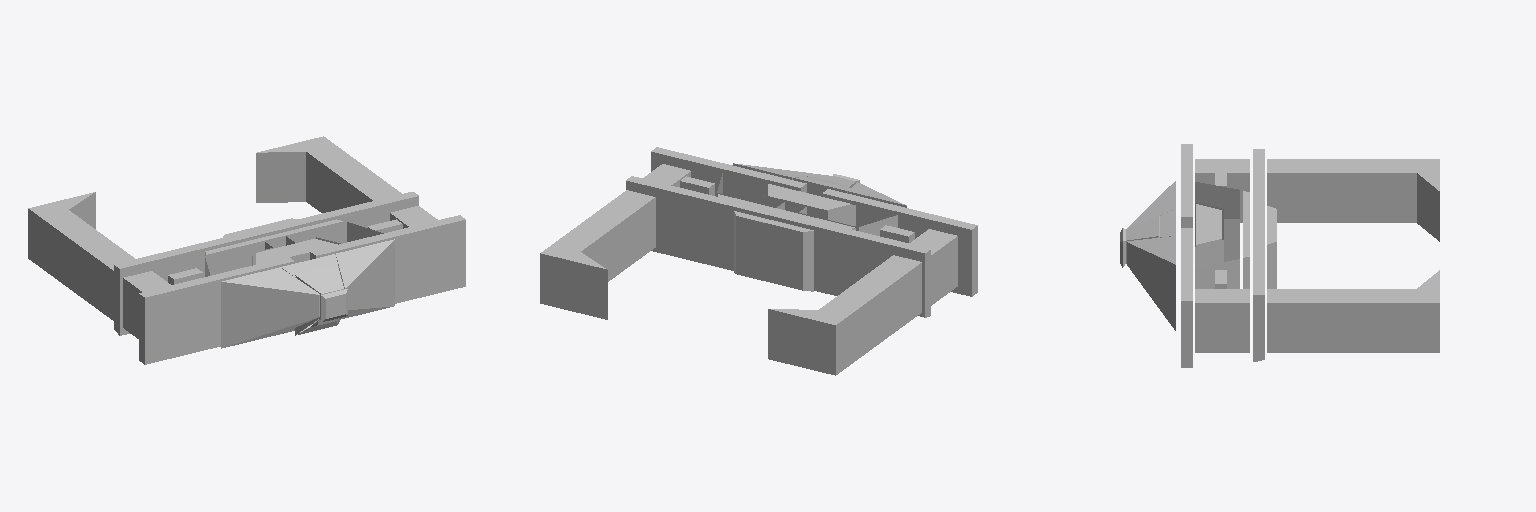
The model's file is recognizer_quad.obj.
3 views of the same model, side by side, from view 1: azimuth 30°, elevation 25°; view 2: azimuth 150°, elevation 25°; view 3: azimuth 270°, elevation 25° (orthographic).
Parts seen in each view (by area): view 1: LegA02, LegB02, Shoulder01, Shoulder02, Head02, Middle_Bar, Head04, Head01, LegA01, Chest03, Chest02, Chest01 (+3 smaller); view 2: Middle_Bar, LegA02, LegB02, Lower_Midd, Shoulder01, Shoulder02, LegA01, Chest03, Chest02, Chest01, LegB01; view 3: LegB02, LegA02, LegB01, Head04, Middle_Bar, Chest02, Shoulder02, LegA01, Chest03, Shoulder01, Chest01, Head01 (+3 smaller).
Boxes of the visible parts, <box> form: LegA02: <box>28,192,134,320</box>; LegB02: <box>256,136,401,212</box>; Shoulder01: <box>139,257,294,364</box>; Shoulder02: <box>310,215,465,303</box>; Head02: <box>221,267,319,348</box>; Middle_Bar: <box>114,192,418,335</box>; Head04: <box>336,239,394,319</box>; Head01: <box>295,265,347,335</box>; LegA01: <box>123,271,170,338</box>; Chest03: <box>205,242,272,276</box>; Chest02: <box>286,222,383,245</box>; Chest01: <box>256,239,337,264</box>; Middle_Bar: <box>626,176,930,317</box>; LegA02: <box>768,255,921,375</box>; LegB02: <box>540,190,655,319</box>; Lower_Midd: <box>734,211,813,291</box>; Shoulder01: <box>822,189,977,296</box>; Shoulder02: <box>651,147,806,196</box>; LegA01: <box>909,229,957,305</box>; Chest03: <box>799,205,897,235</box>; Chest02: <box>717,172,784,209</box>; Chest01: <box>768,184,851,213</box>; LegB01: <box>643,164,690,186</box>; LegB02: <box>1267,270,1439,352</box>; LegA02: <box>1267,159,1439,241</box>; LegB01: <box>1195,289,1249,352</box>; Head04: <box>1127,236,1175,330</box>; Middle_Bar: <box>1253,149,1264,361</box>; Chest02: <box>1195,230,1239,288</box>; Shoulder02: <box>1181,228,1192,367</box>; LegA01: <box>1195,159,1249,222</box>; Chest03: <box>1195,182,1239,246</box>; Shoulder01: <box>1181,144,1192,227</box>; Chest01: <box>1196,204,1221,245</box>; Head01: <box>1120,216,1159,267</box>.
Bounding box in the file's own units: 300 × 60 × 259.